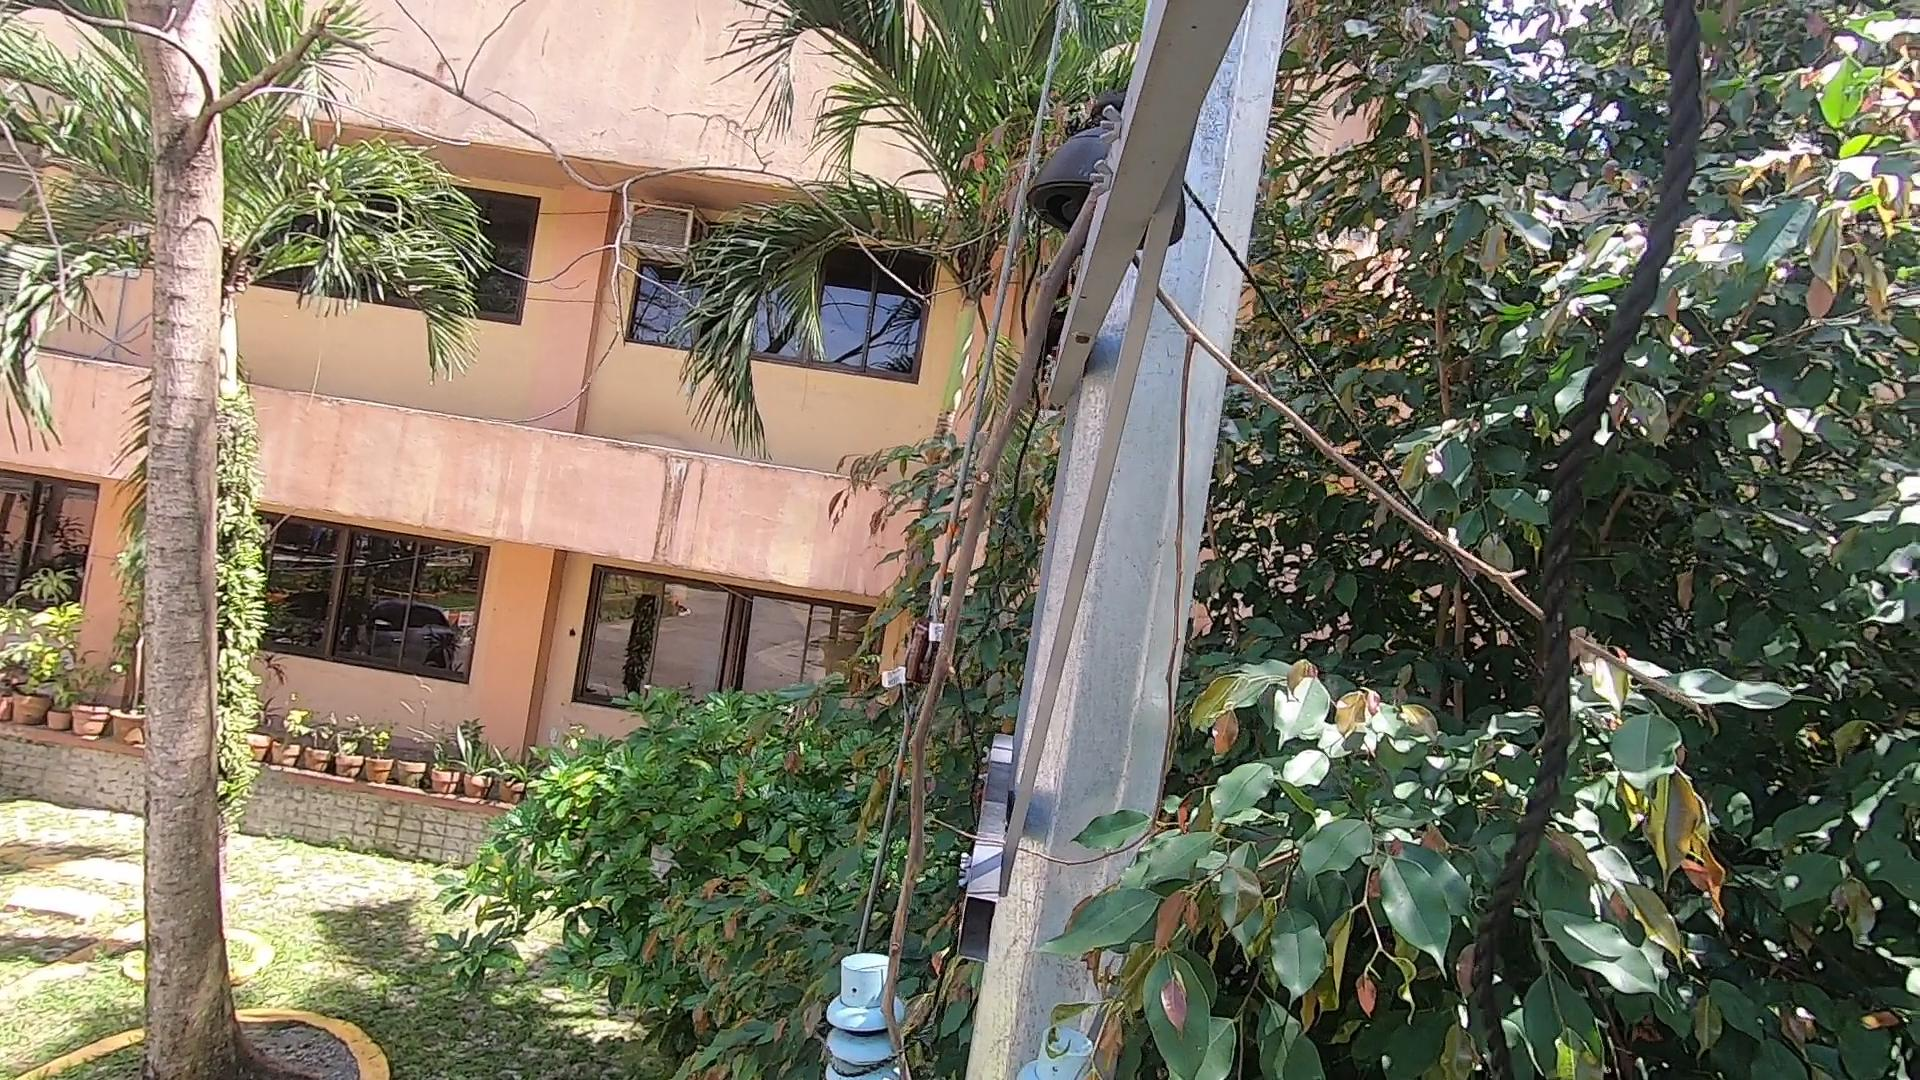branch with leaves: (952, 746, 1356, 1080)
tree branch: (858, 44, 1425, 1077)
